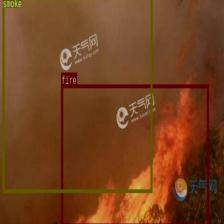fire: (61, 84, 208, 224)
smoke: (2, 0, 152, 192)
